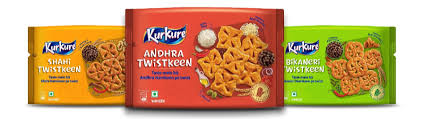kurkure: (142, 25, 188, 43), (287, 41, 319, 54), (42, 42, 76, 54)
plastic: (18, 4, 402, 115)
wrapper: (123, 6, 287, 110)
